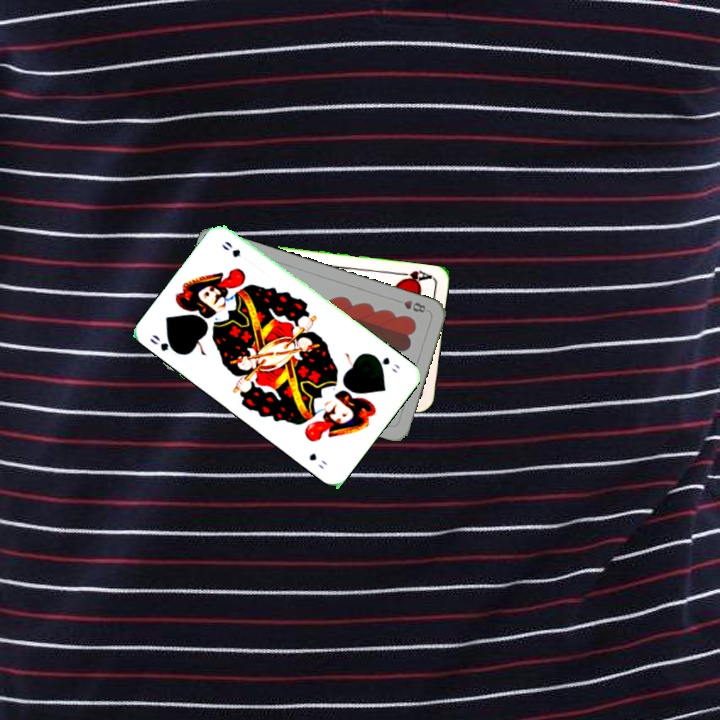GO: (145, 330, 183, 357), (369, 351, 402, 376)
H8: (400, 296, 428, 315)
HA: (393, 266, 434, 286)
